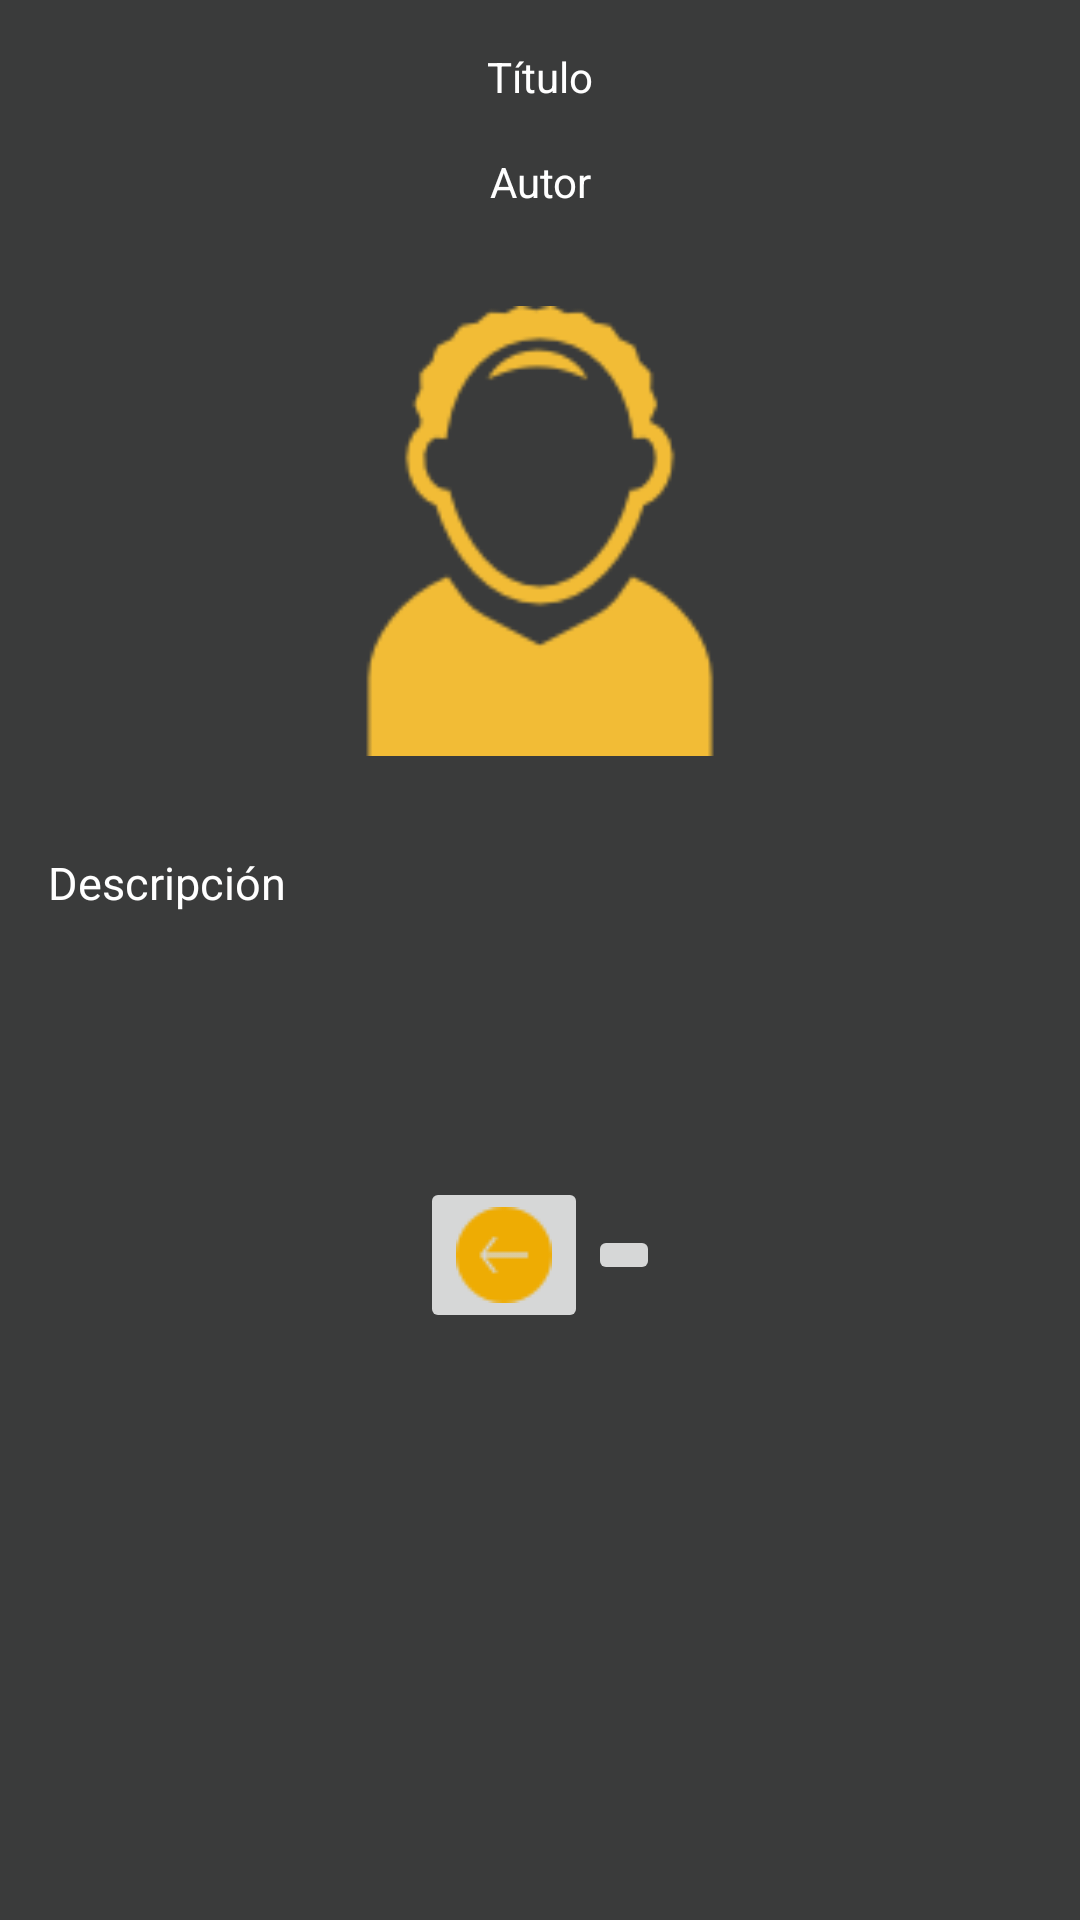

Icons on this 1080px x 1920px Android screen, each with its box as {"left": x1, "top": y1, "right": x2, "bottom": y2}:
volver: {"left": 432, "top": 1195, "right": 576, "bottom": 1315}
